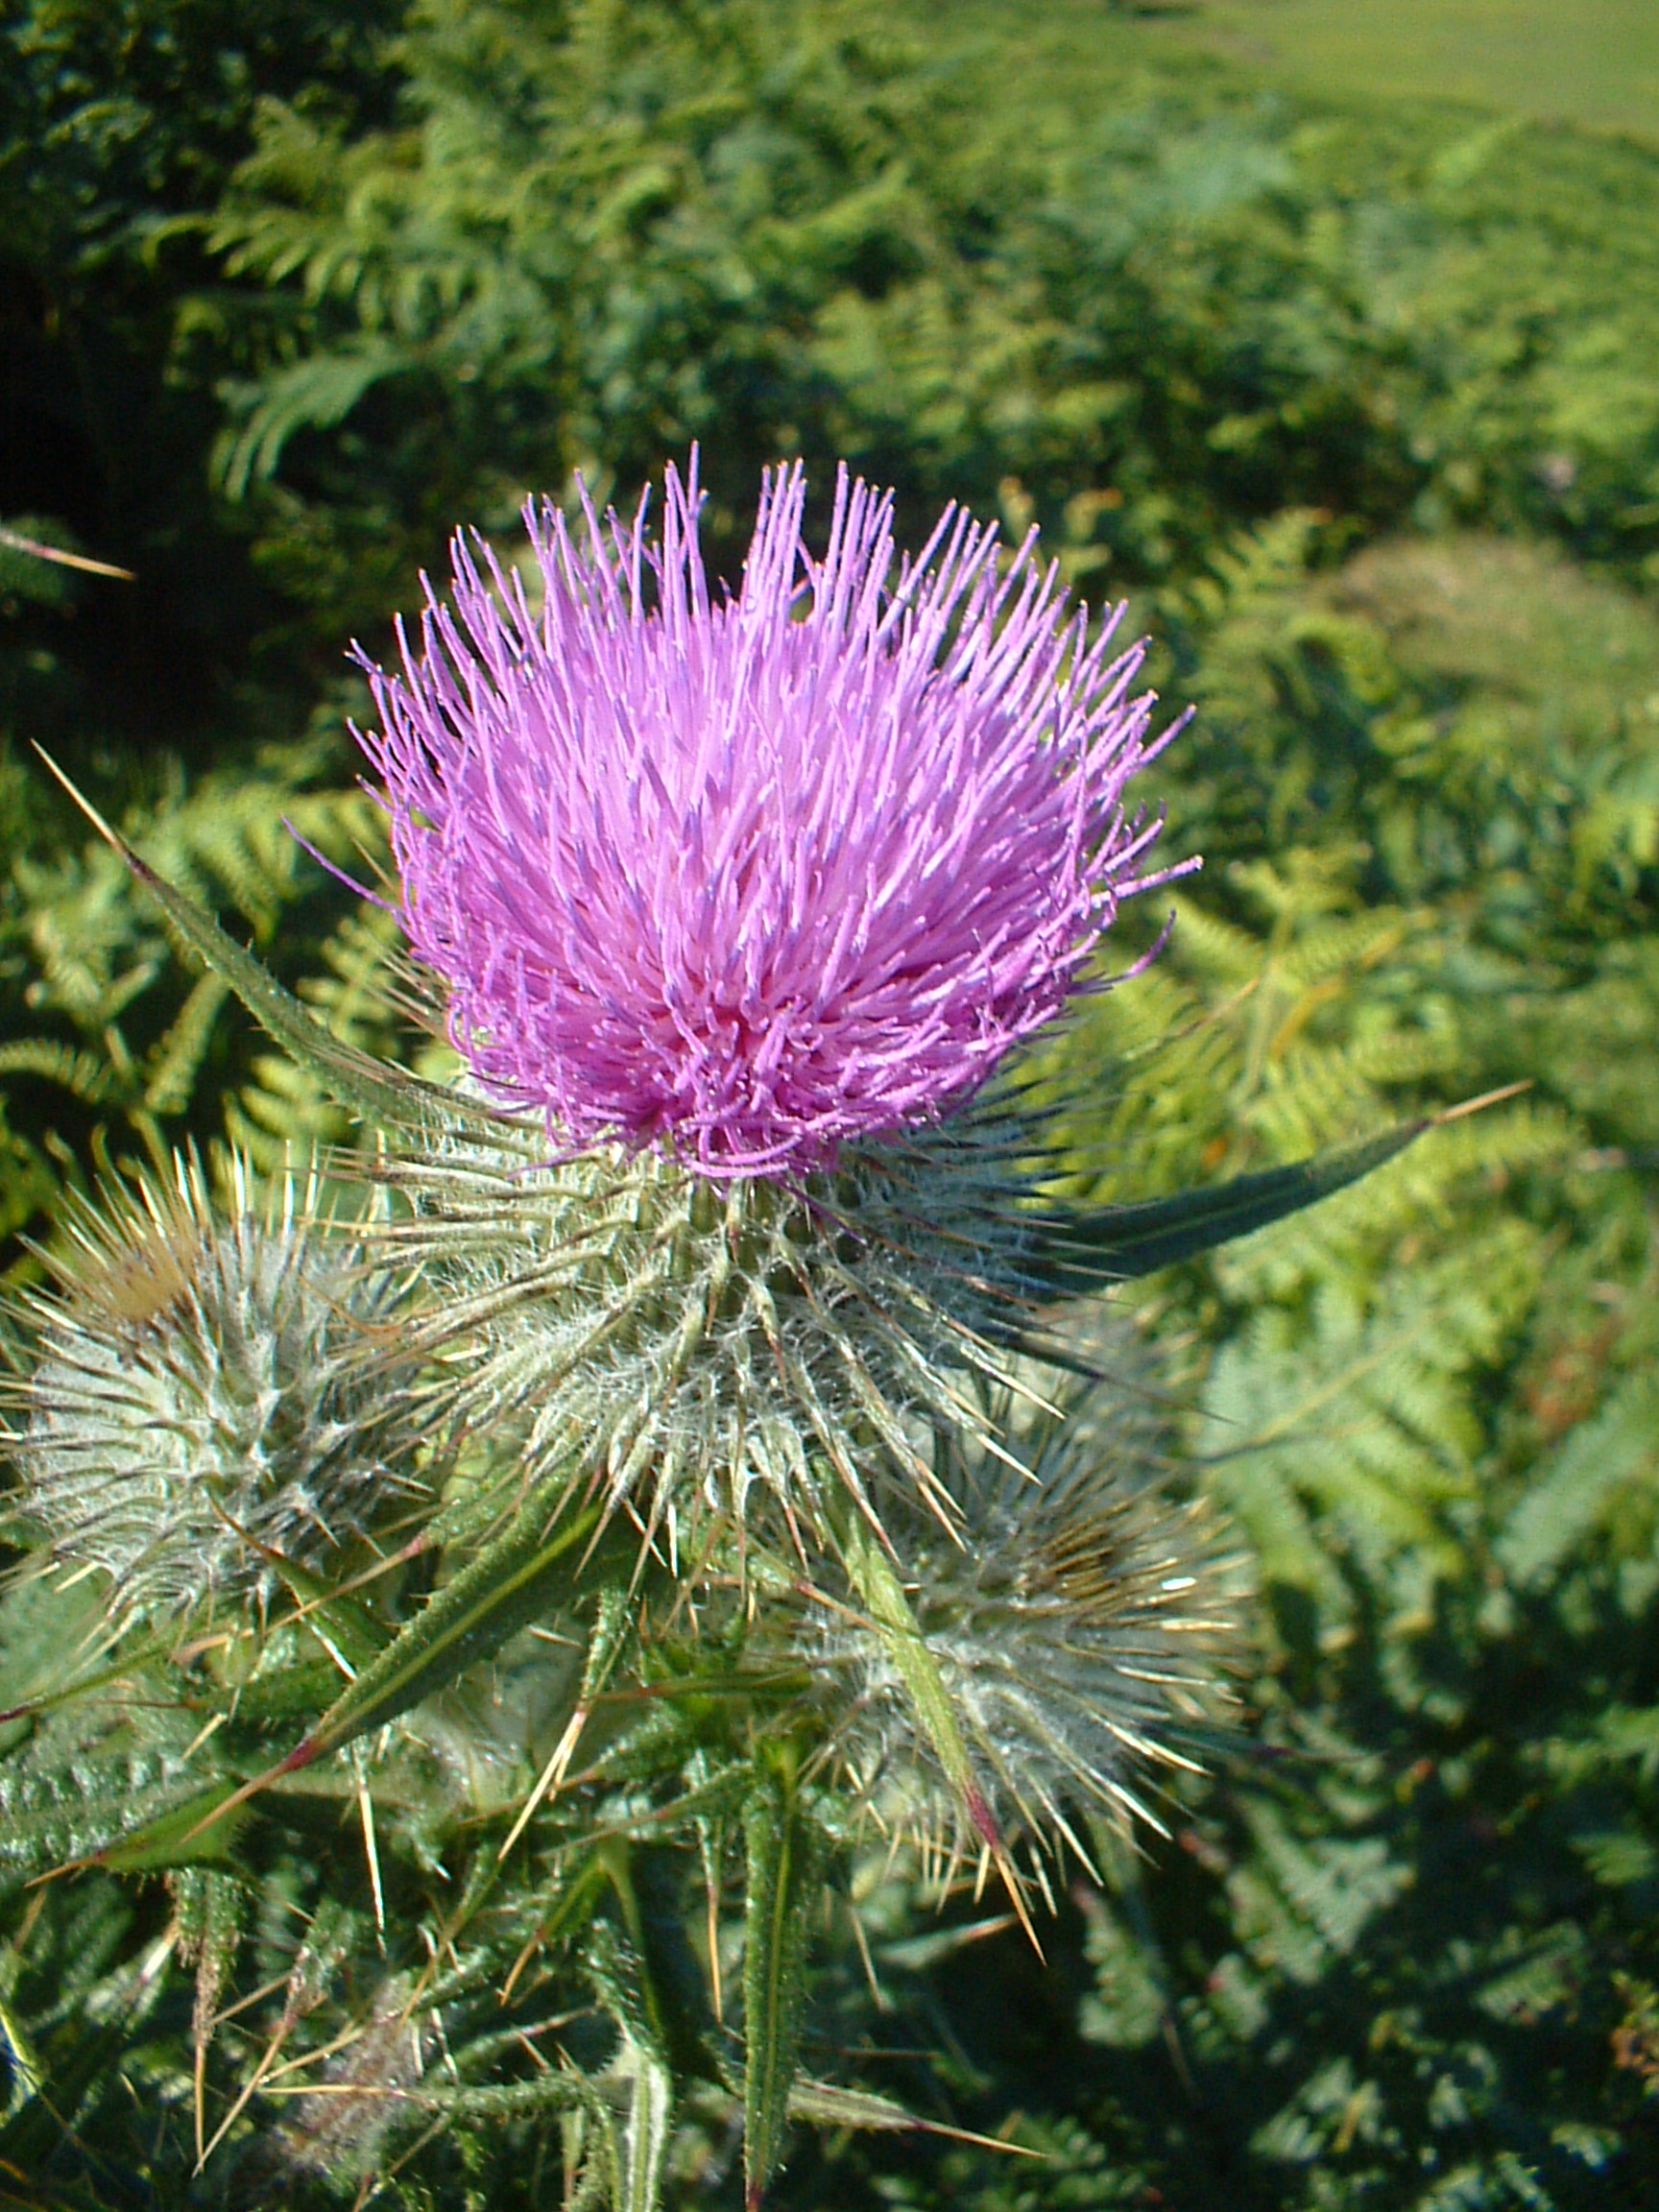thistle: (230, 456, 1227, 1554)
